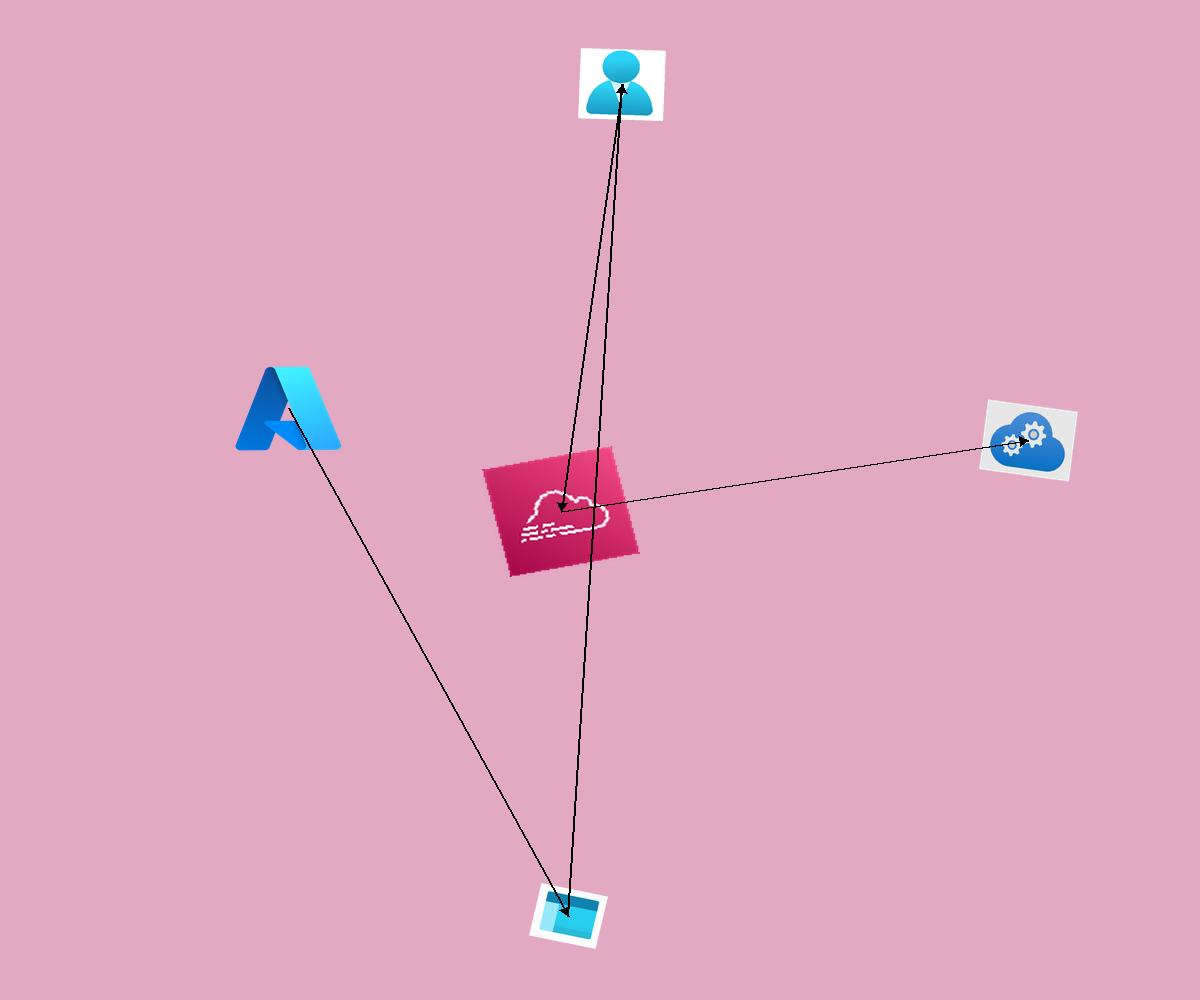AWS-CloudTrail: (482, 446, 640, 577)
Azure_cloud_services: (979, 399, 1078, 482)
Azure_management-portal: (529, 883, 608, 949)
Azure_services: (230, 360, 346, 457)
Azure_users: (578, 48, 666, 121)
